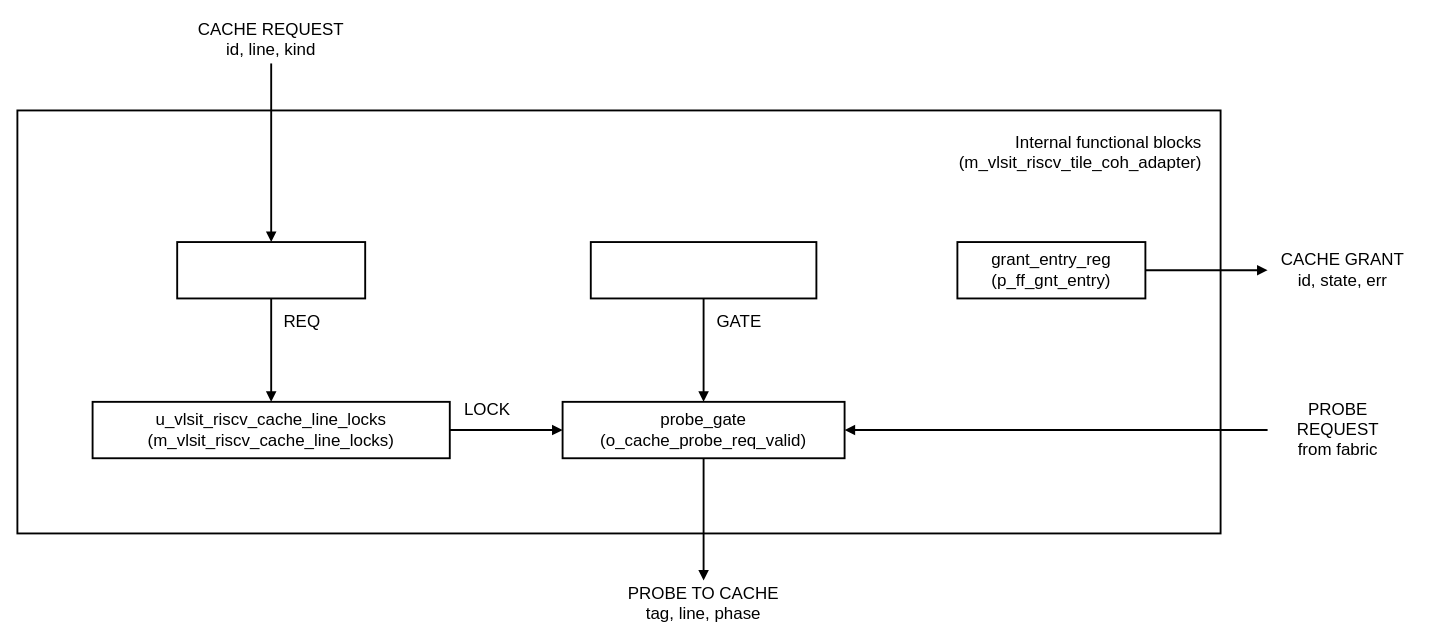
Image size: 1434x643. Some labels were removed from this diagram. Here are the shapes that lost their labels. From the top down, the box of each, then its label:
(176, 241, 366, 299): request_entry_reg (p_ff_req_entry)
(589, 241, 817, 299): reset_release_gate (p_ff_reset_release)
